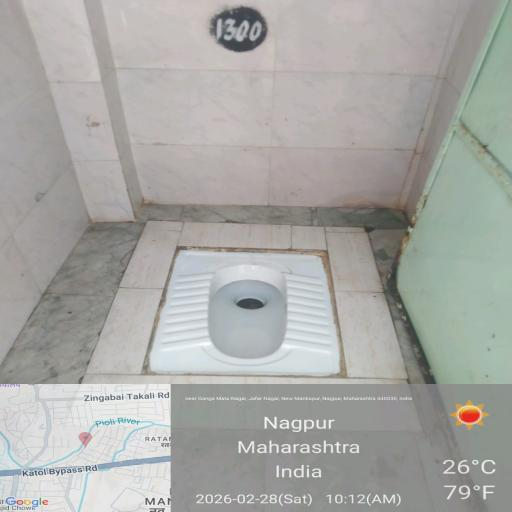clean_floor: (139, 0, 410, 179)
clean_indian: (161, 248, 338, 376)
partial_dirty_floor: (35, 220, 170, 380), (310, 214, 439, 374), (136, 192, 378, 246)
